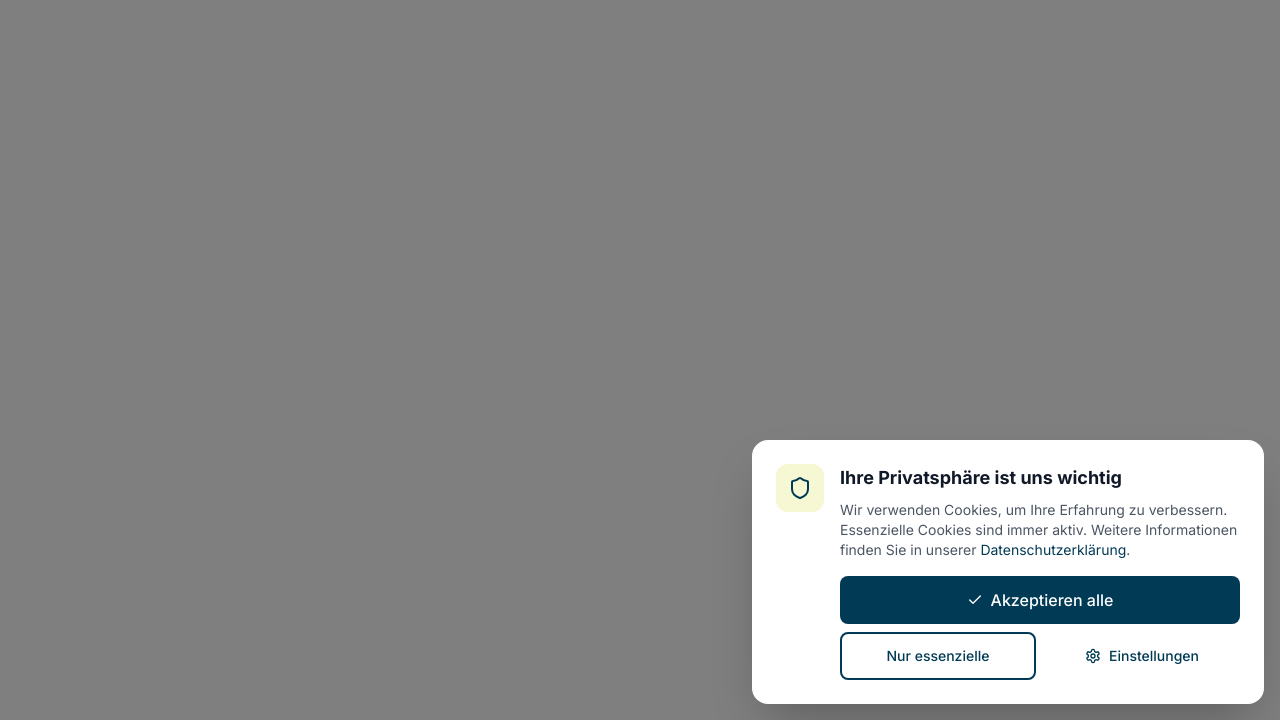
Test: CookieBanner › opens settings when settings button is clicked
The width and height of the screenshot is (1280, 720).
Click the button with aria-label "Cookie-Einstellungen anpassen".
click(1142, 656)  # box [1044,632,1240,680]
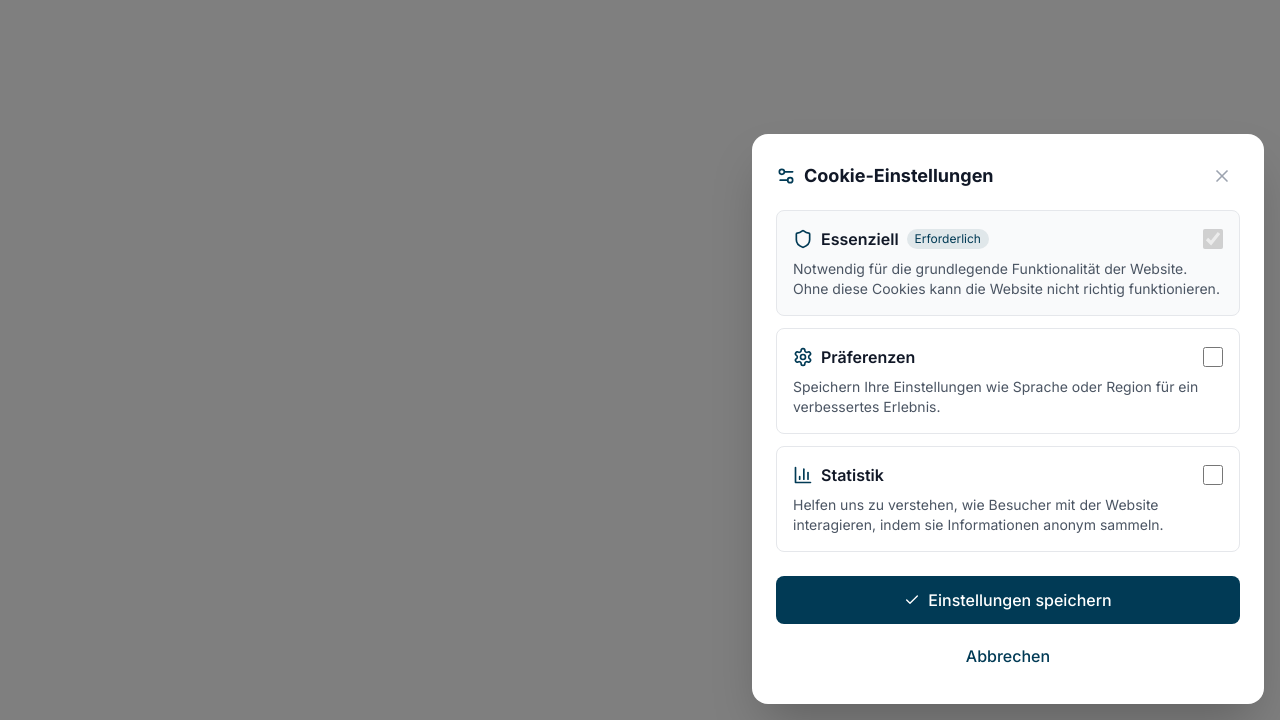
Now the heading "Cookie-Einstellungen" is shown, box [776,162,994,190]
